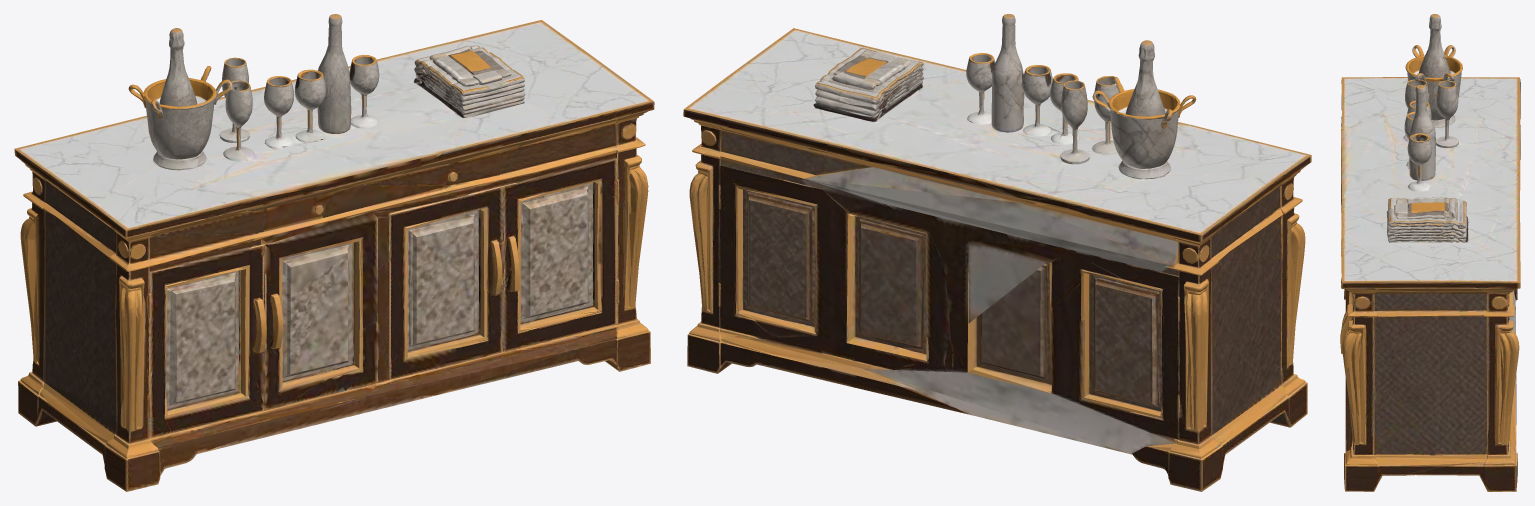
Rendered from serviceBuffet.glb.
3 renders of one model, left to right at view 1: azimuth 30°, elevation 25°; view 2: azimuth 150°, elevation 25°; view 3: azimuth 270°, elevation 25°, orthographic. The views are drawn at different scales.
Size of the model in its own units: 1.9 by 1.36 by 0.7064.
1 material, 1 textured.
